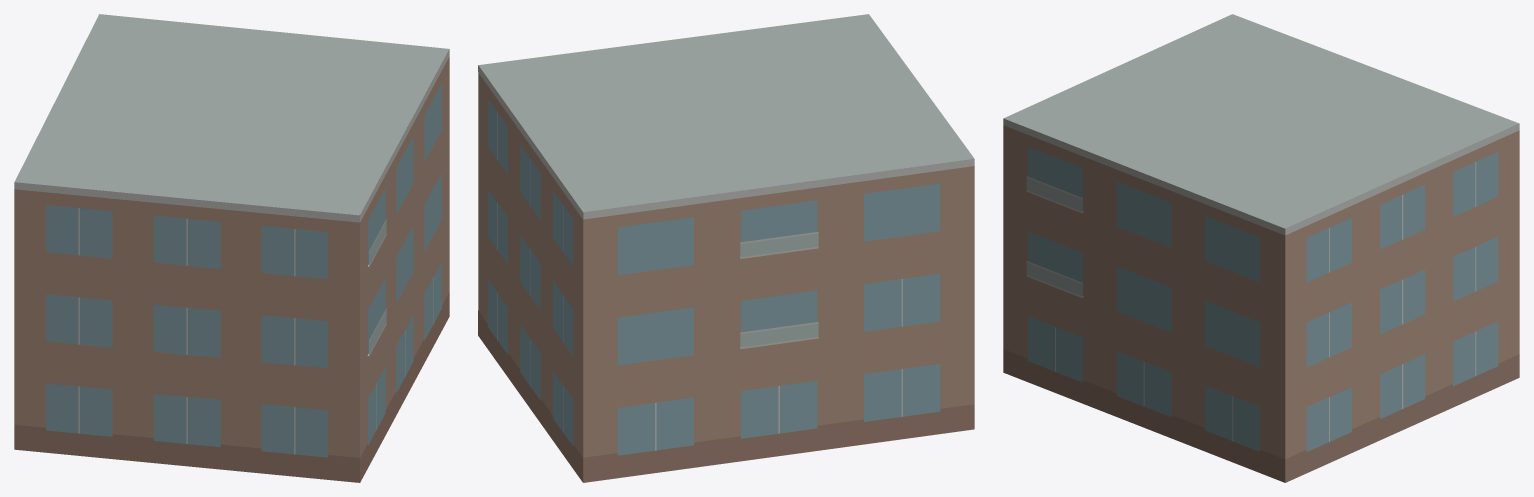
Rendered from survey-upis-33021418.glb.
3 renders of one model, left to right at view 1: azimuth 30°, elevation 25°; view 2: azimuth 150°, elevation 25°; view 3: azimuth 270°, elevation 25°, orthographic. The views are drawn at different scales.
Parts seen in each view (by area): view 1: survey-upis-33021418.tmp; view 2: survey-upis-33021418.tmp; view 3: survey-upis-33021418.tmp.
Part boxes in pixels (x1,y1,x2,y2): survey-upis-33021418.tmp: (14, 14, 449, 482); survey-upis-33021418.tmp: (478, 14, 974, 482); survey-upis-33021418.tmp: (1003, 14, 1519, 482).
Bounding box in the file's own units: 16.59 × 9.15 × 16.85.
